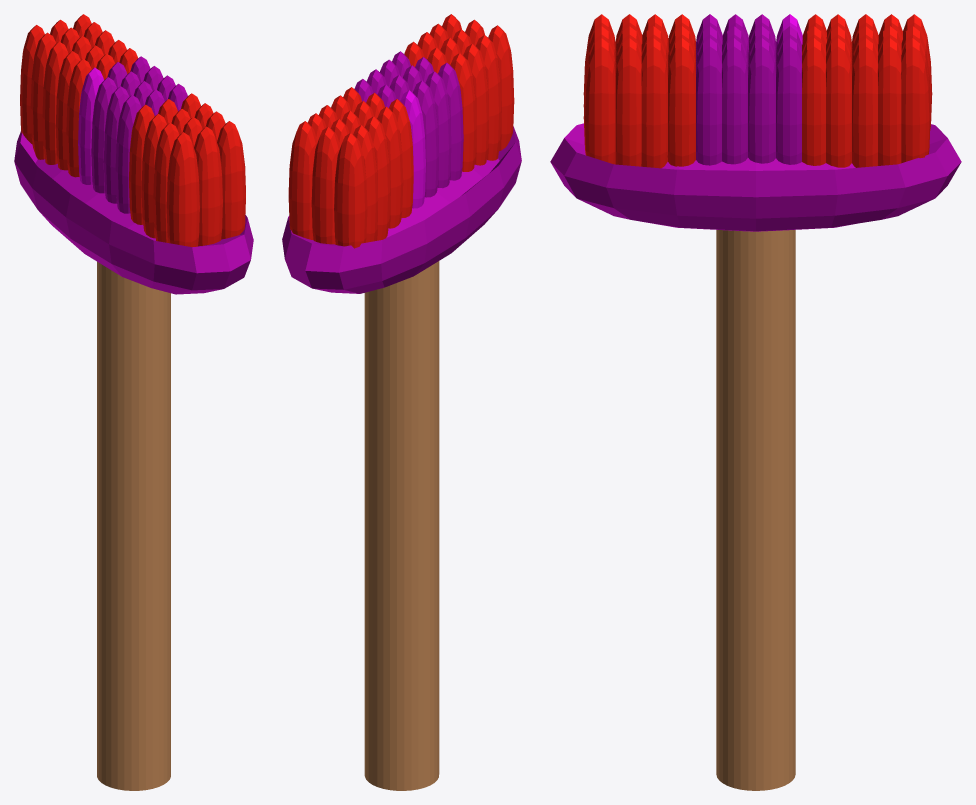
Rendered from Broom (1).fbx.
3 views of the same model, side by side, from view 1: azimuth 30°, elevation 25°; view 2: azimuth 150°, elevation 25°; view 3: azimuth 270°, elevation 25° (orthographic). The views are drawn at different scales.
Visible parts, largest first — view 1: Cylinder, Cube, Cube.016, Cube.012, Cube.015, Cube.035, Cube.011, Cube.008, Cube.020, Cube.003, Cube.032, Cube.014 (+5 smaller); view 2: Cylinder, Cube, Cube.038, Cube.039, Cube.037, Cube.016, Cube.030, Cube.014, Cube.011, Cube.003, Cube.035, Cube.025 (+5 smaller); view 3: Cylinder, Cube, Cube.015, Cube.004, Cube.018, Cube.024, Cube.010, Cube.039, Cube.036, Cube.031, Cube.009, Cube.019 (+3 smaller).
Boxes of the visible parts, bbox=[...] form: Cylinder: bbox=[97, 262, 170, 790]; Cube: bbox=[14, 131, 253, 294]; Cube.016: bbox=[166, 132, 199, 247]; Cube.012: bbox=[194, 126, 222, 246]; Cube.015: bbox=[217, 121, 245, 239]; Cube.035: bbox=[42, 41, 68, 164]; Cube.011: bbox=[153, 122, 179, 242]; Cube.008: bbox=[115, 95, 141, 213]; Cube.020: bbox=[78, 67, 103, 184]; Cube.003: bbox=[129, 104, 154, 224]; Cube.032: bbox=[30, 32, 55, 159]; Cube.014: bbox=[141, 114, 166, 238]; Cylinder: bbox=[364, 261, 439, 790]; Cube: bbox=[282, 126, 521, 293]; Cube.038: bbox=[334, 133, 367, 248]; Cube.039: bbox=[288, 121, 317, 239]; Cube.037: bbox=[311, 126, 340, 244]; Cube.016: bbox=[488, 25, 514, 150]; Cube.030: bbox=[377, 106, 403, 228]; Cube.014: bbox=[463, 43, 488, 165]; Cube.011: bbox=[476, 35, 501, 160]; Cube.003: bbox=[450, 53, 476, 171]; Cube.035: bbox=[364, 116, 390, 240]; Cube.025: bbox=[413, 80, 438, 197]; Cylinder: bbox=[716, 230, 795, 790]; Cube: bbox=[550, 123, 961, 231]; Cube.015: bbox=[583, 38, 615, 164]; Cube.004: bbox=[667, 38, 695, 166]; Cube.018: bbox=[641, 38, 667, 168]; Cube.024: bbox=[748, 38, 775, 163]; Cube.010: bbox=[615, 38, 641, 166]; Cube.039: bbox=[901, 38, 930, 163]; Cube.036: bbox=[852, 38, 877, 167]; Cube.031: bbox=[826, 38, 851, 167]; Cube.009: bbox=[696, 38, 721, 165]; Cube.019: bbox=[776, 38, 801, 164].
Size of the model in its own units: 266 by 1310 by 653.
